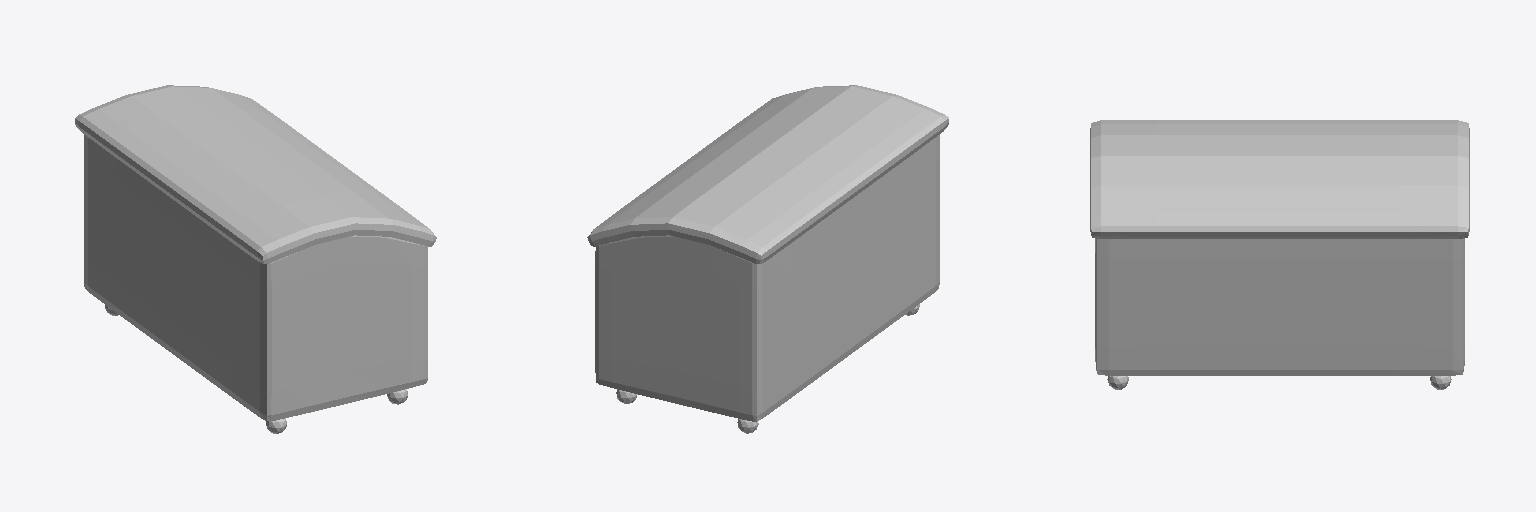
3 views of the same model, side by side, from view 1: azimuth 30°, elevation 25°; view 2: azimuth 150°, elevation 25°; view 3: azimuth 270°, elevation 25° (orthographic).
Parts seen in each view (by area): view 1: BinMain, BinMetal; view 2: BinMain, BinMetal; view 3: BinMain, BinMetal.
Part boxes in pixels (left/top/right/bottom): BinMain: left=84, top=135, right=427, bottom=421; BinMetal: left=75, top=85, right=436, bottom=433; BinMain: left=595, top=135, right=939, bottom=421; BinMetal: left=587, top=85, right=948, bottom=433; BinMain: left=1095, top=238, right=1464, bottom=375; BinMetal: left=1090, top=120, right=1469, bottom=389.
Size of the model in its own units: 5.15 by 5.79 by 9.63.